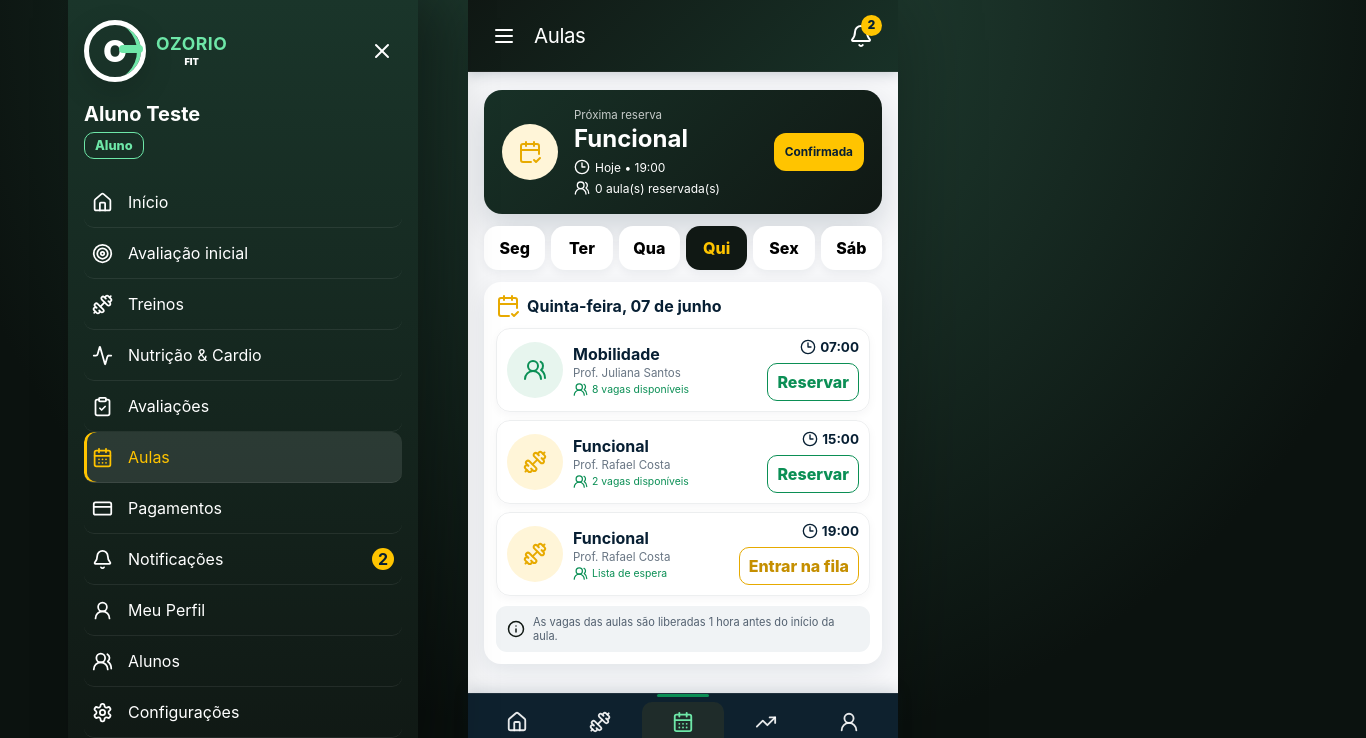
it: Class reservation › changes available class to reserved
Click the button "Reservar" below "07:00" at point(813, 382), box x1=767 y1=363 x2=859 y2=401
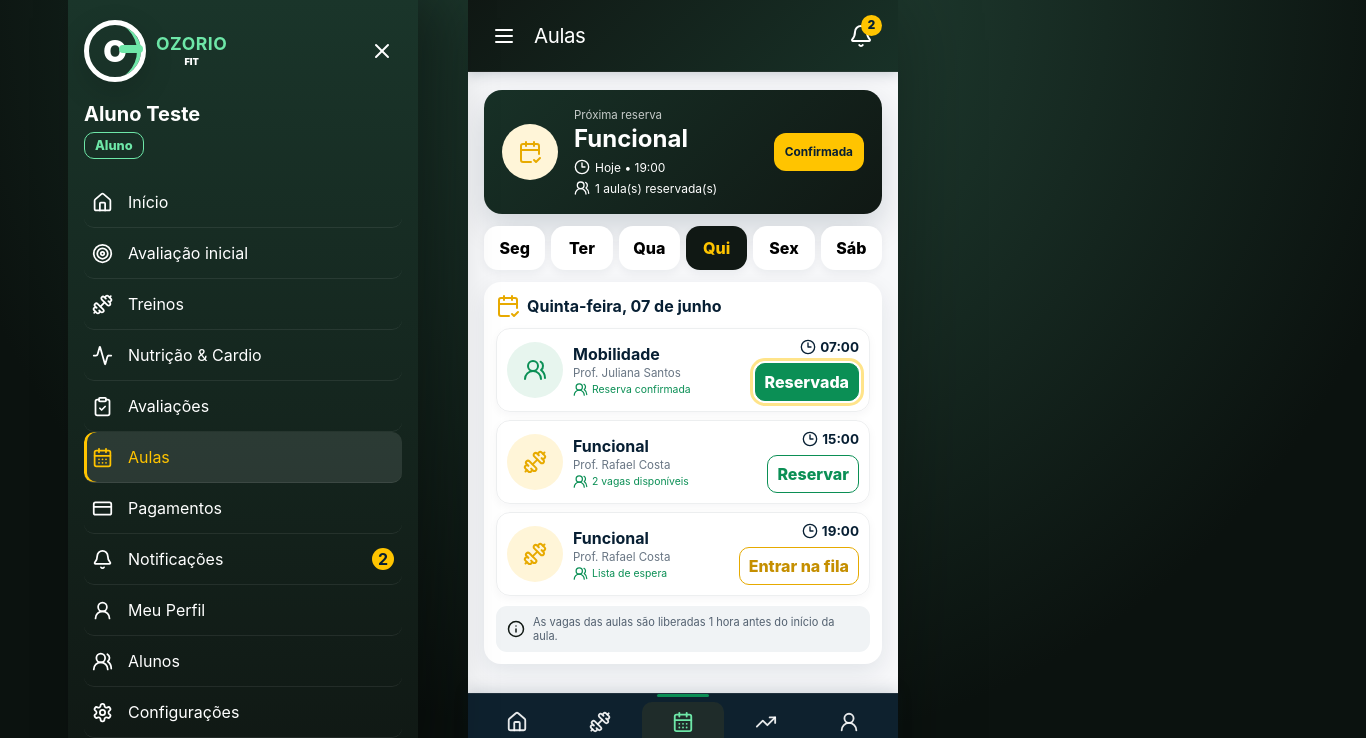
Expected: the button "Reservada" is shown, x1=754 y1=363 x2=859 y2=401
